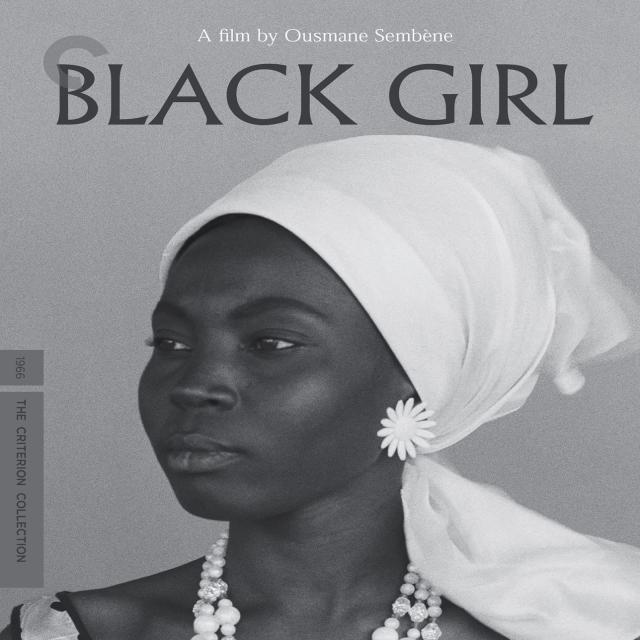sem_oculos: (132, 304, 502, 391)
